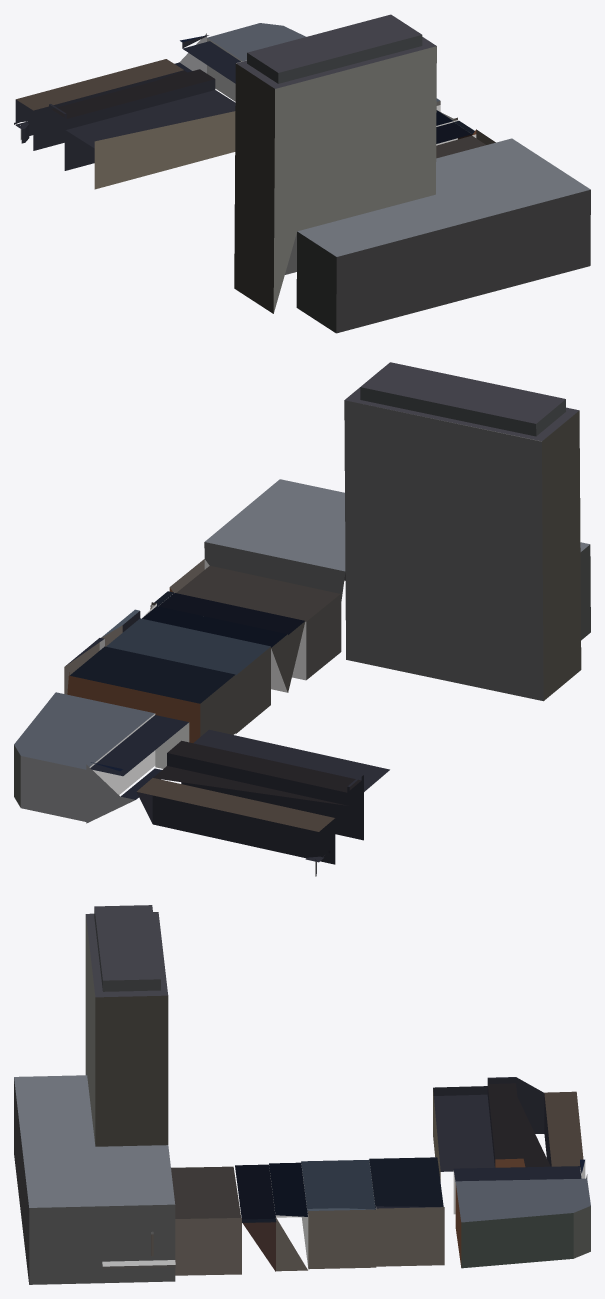
Rendered from 700-cherry-street.glb.
3 views of the same model, one above another, from view 1: azimuth 30°, elevation 25°; view 2: azimuth 150°, elevation 25°; view 3: azimuth 270°, elevation 25° (orthographic). The views are drawn at different scales.
Parts seen in each view (by area): view 1: LOD0; view 2: LOD0; view 3: LOD0.
Part boxes in pixels (x1,y1,x2,y2): LOD0: [14, 14, 590, 333]; LOD0: [14, 362, 590, 876]; LOD0: [14, 905, 590, 1284].
Size of what is drawn, in the model's own units: 83.05 by 60.43 by 131.
Materials: 2 (2 with a texture image).
